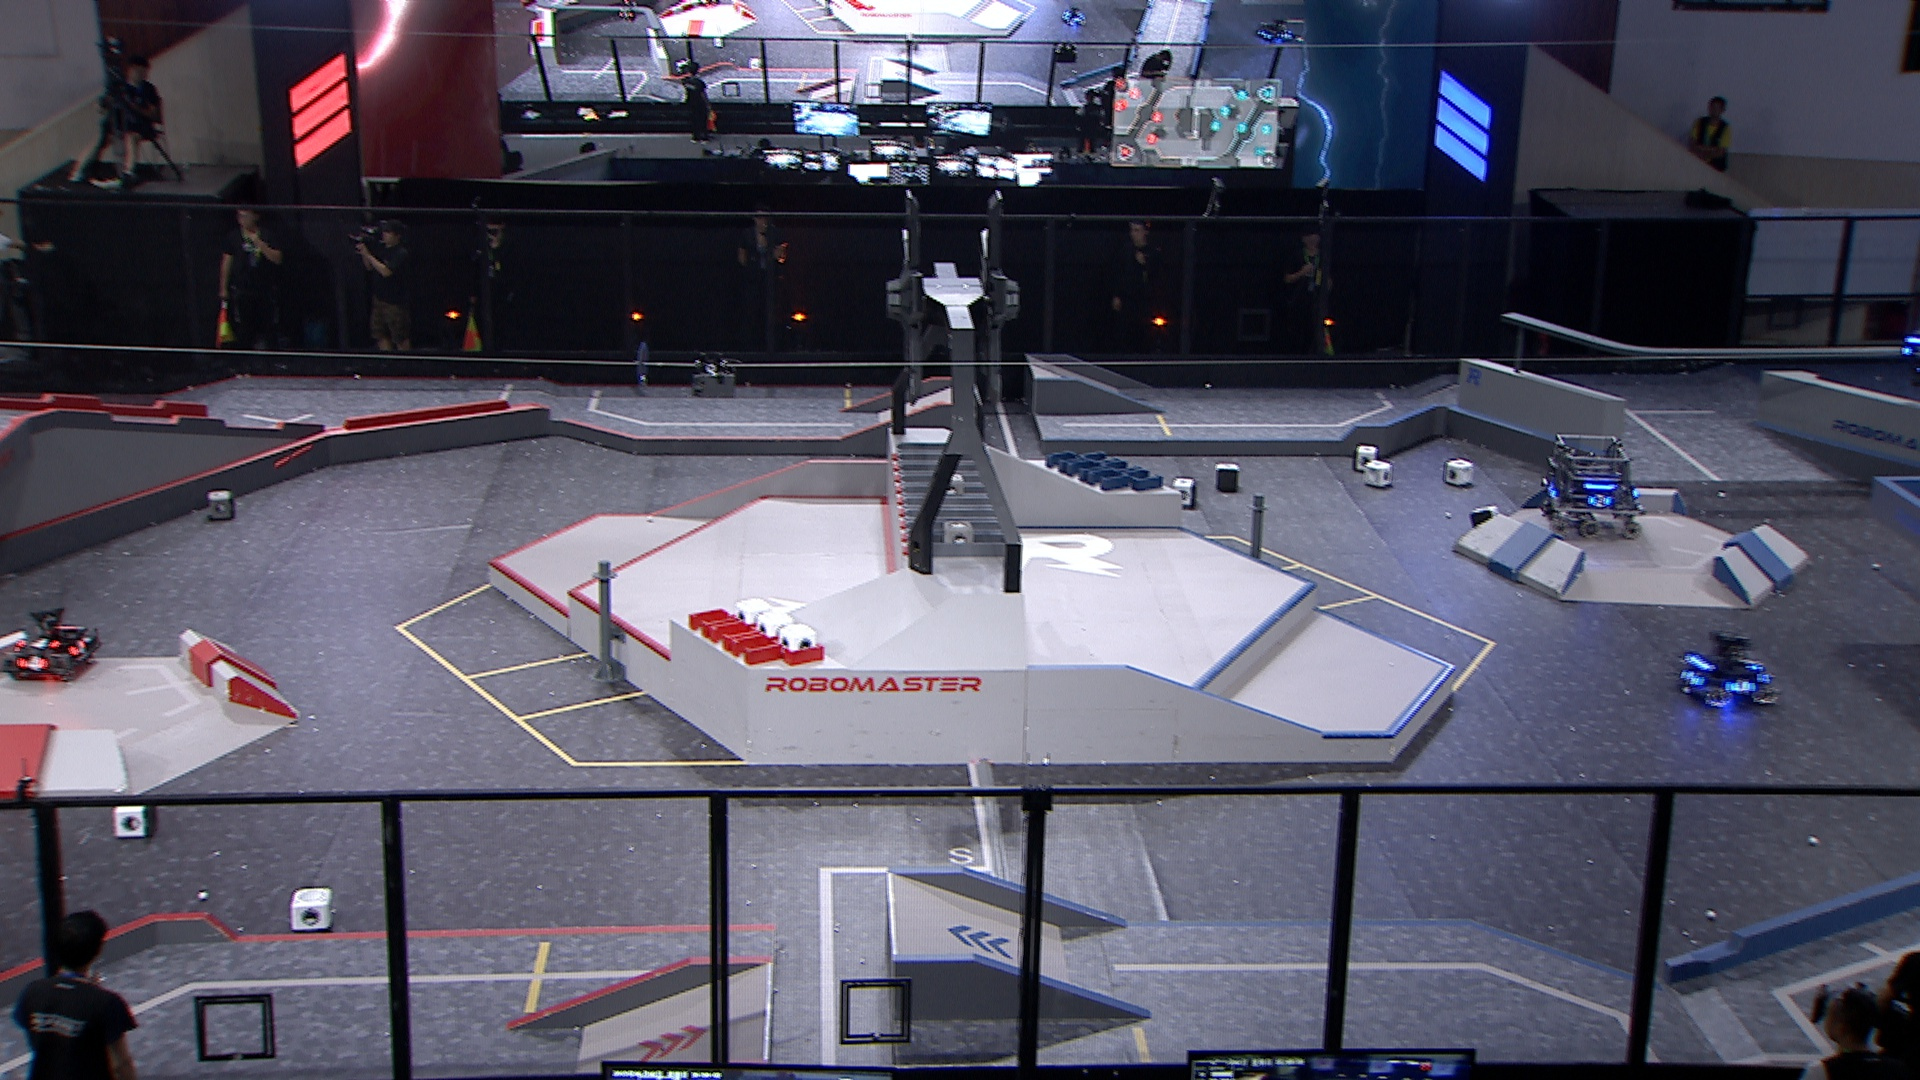armor: (1680, 666, 1708, 692), (20, 636, 59, 651), (17, 657, 49, 673), (1741, 655, 1764, 674), (1730, 680, 1756, 694), (1588, 495, 1613, 506), (71, 638, 86, 655), (1543, 484, 1557, 501)
car: (1534, 431, 1640, 543), (0, 604, 100, 683), (1673, 636, 1774, 713)
ignore: (1257, 16, 1302, 47), (615, 0, 640, 25), (1059, 5, 1088, 26)
watcher: (1898, 330, 1920, 389)
